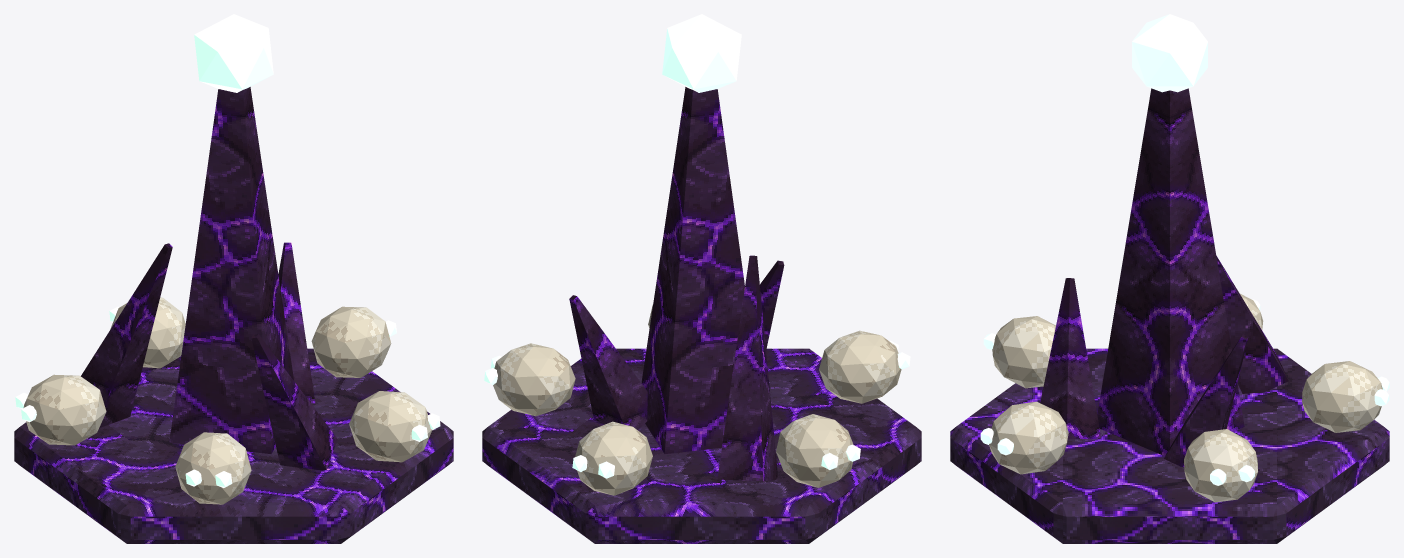
Rendered from cursed.glb.
3 renders of one model, left to right at view 1: azimuth 30°, elevation 25°; view 2: azimuth 150°, elevation 25°; view 3: azimuth 270°, elevation 25°, orthographic.
Visible parts, largest first — view 1: Base, Spire, Shard1, Shard2, Flame, Skull2, Skull0, Skull4, Skull3, Shard0, Skull1; view 2: Base, Spire, Shard1, Shard0, Flame, Skull3, Skull0, Skull2, Skull1, Shard2; view 3: Base, Spire, Shard2, Flame, Skull1, Skull4, Skull0, Shard1, Skull3, Shard0.
Part boxes in pixels (x1=…): Base: x1=14, y1=348, x2=453, y2=543; Spire: x1=169, y1=87, x2=293, y2=453; Shard1: x1=81, y1=243, x2=172, y2=427; Shard2: x1=251, y1=334, x2=337, y2=470; Flame: x1=194, y1=14, x2=273, y2=92; Skull2: x1=23, y1=374, x2=106, y2=445; Skull0: x1=311, y1=306, x2=391, y2=377; Skull4: x1=349, y1=391, x2=432, y2=462; Skull3: x1=175, y1=432, x2=251, y2=504; Shard0: x1=278, y1=242, x2=315, y2=403; Skull1: x1=110, y1=297, x2=185, y2=368; Base: x1=482, y1=348, x2=921, y2=543; Spire: x1=641, y1=87, x2=744, y2=453; Shard1: x1=717, y1=255, x2=777, y2=481; Shard0: x1=569, y1=295, x2=647, y2=429; Flame: x1=662, y1=14, x2=741, y2=92; Skull3: x1=819, y1=330, x2=901, y2=403; Skull0: x1=493, y1=343, x2=575, y2=416; Skull2: x1=776, y1=414, x2=853, y2=487; Skull1: x1=575, y1=421, x2=652, y2=495; Shard2: x1=760, y1=260, x2=784, y2=350; Base: x1=950, y1=348, x2=1389, y2=543; Spire: x1=1097, y1=88, x2=1244, y2=455; Shard2: x1=1040, y1=278, x2=1101, y2=439; Flame: x1=1132, y1=14, x2=1207, y2=92; Skull1: x1=1302, y1=361, x2=1382, y2=432; Skull4: x1=989, y1=401, x2=1068, y2=474; Skull0: x1=1184, y1=429, x2=1257, y2=502; Shard1: x1=1216, y1=256, x2=1288, y2=393; Skull3: x1=992, y1=316, x2=1055, y2=388; Shard0: x1=1164, y1=334, x2=1248, y2=466.
Bounding box in the file's own units: 4.01 × 4.67 × 4.12.
Materials: 5 (3 with a texture image).
